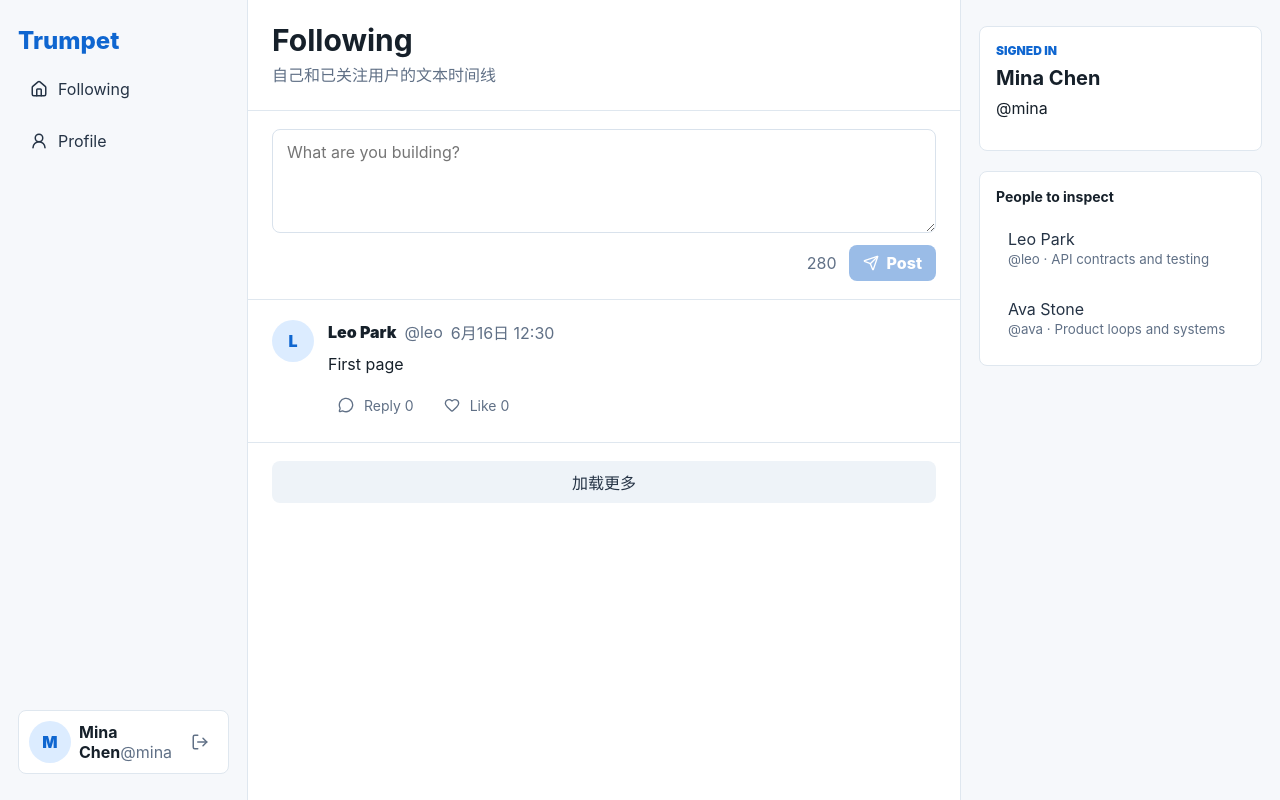
App timeline interactions › loads another page when a timeline cursor is present
expect the text "First page" is shown: met, box x1=328 y1=354 x2=404 y2=374
What coordinates should you click on to do the following:
click the button "加载更多"
I would click on:
 (604, 482)
Its box is x1=272 y1=461 x2=936 y2=503.
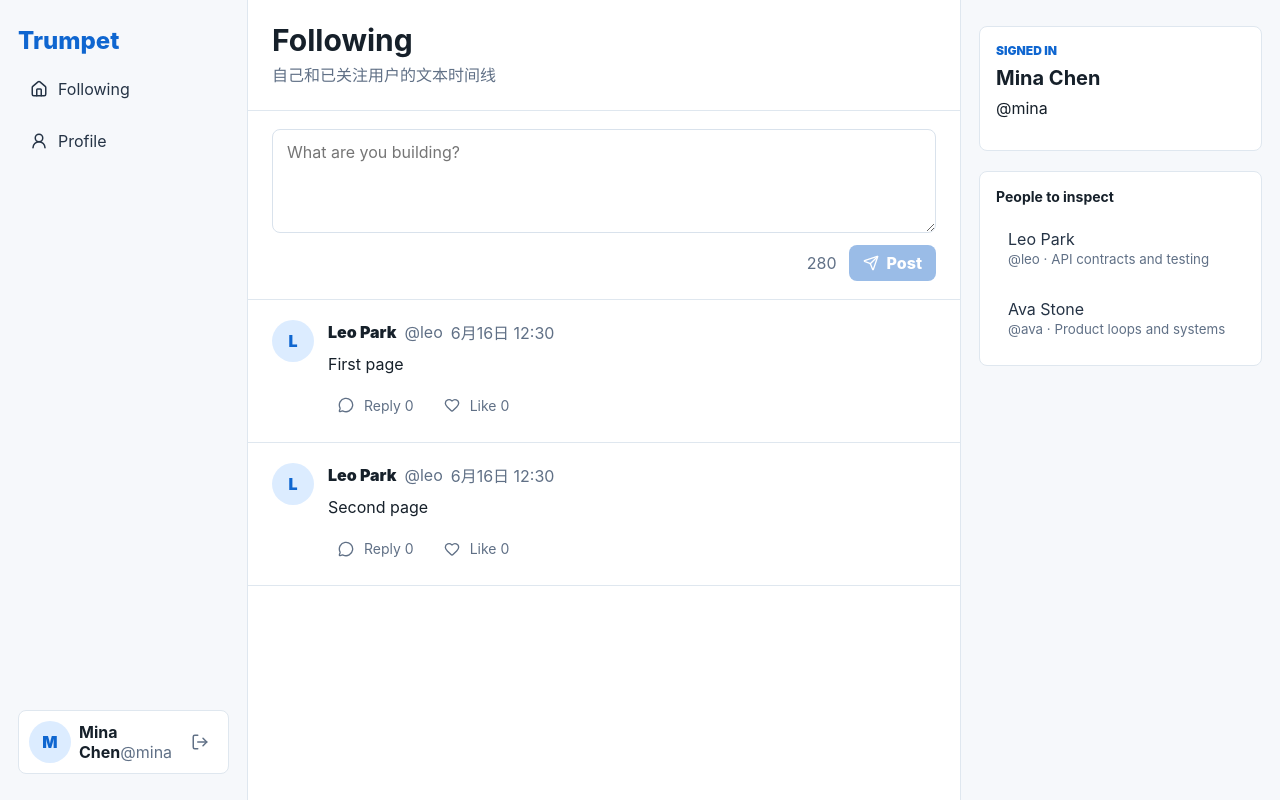
expect the text "Second page" is shown: met, box x1=328 y1=497 x2=428 y2=517
